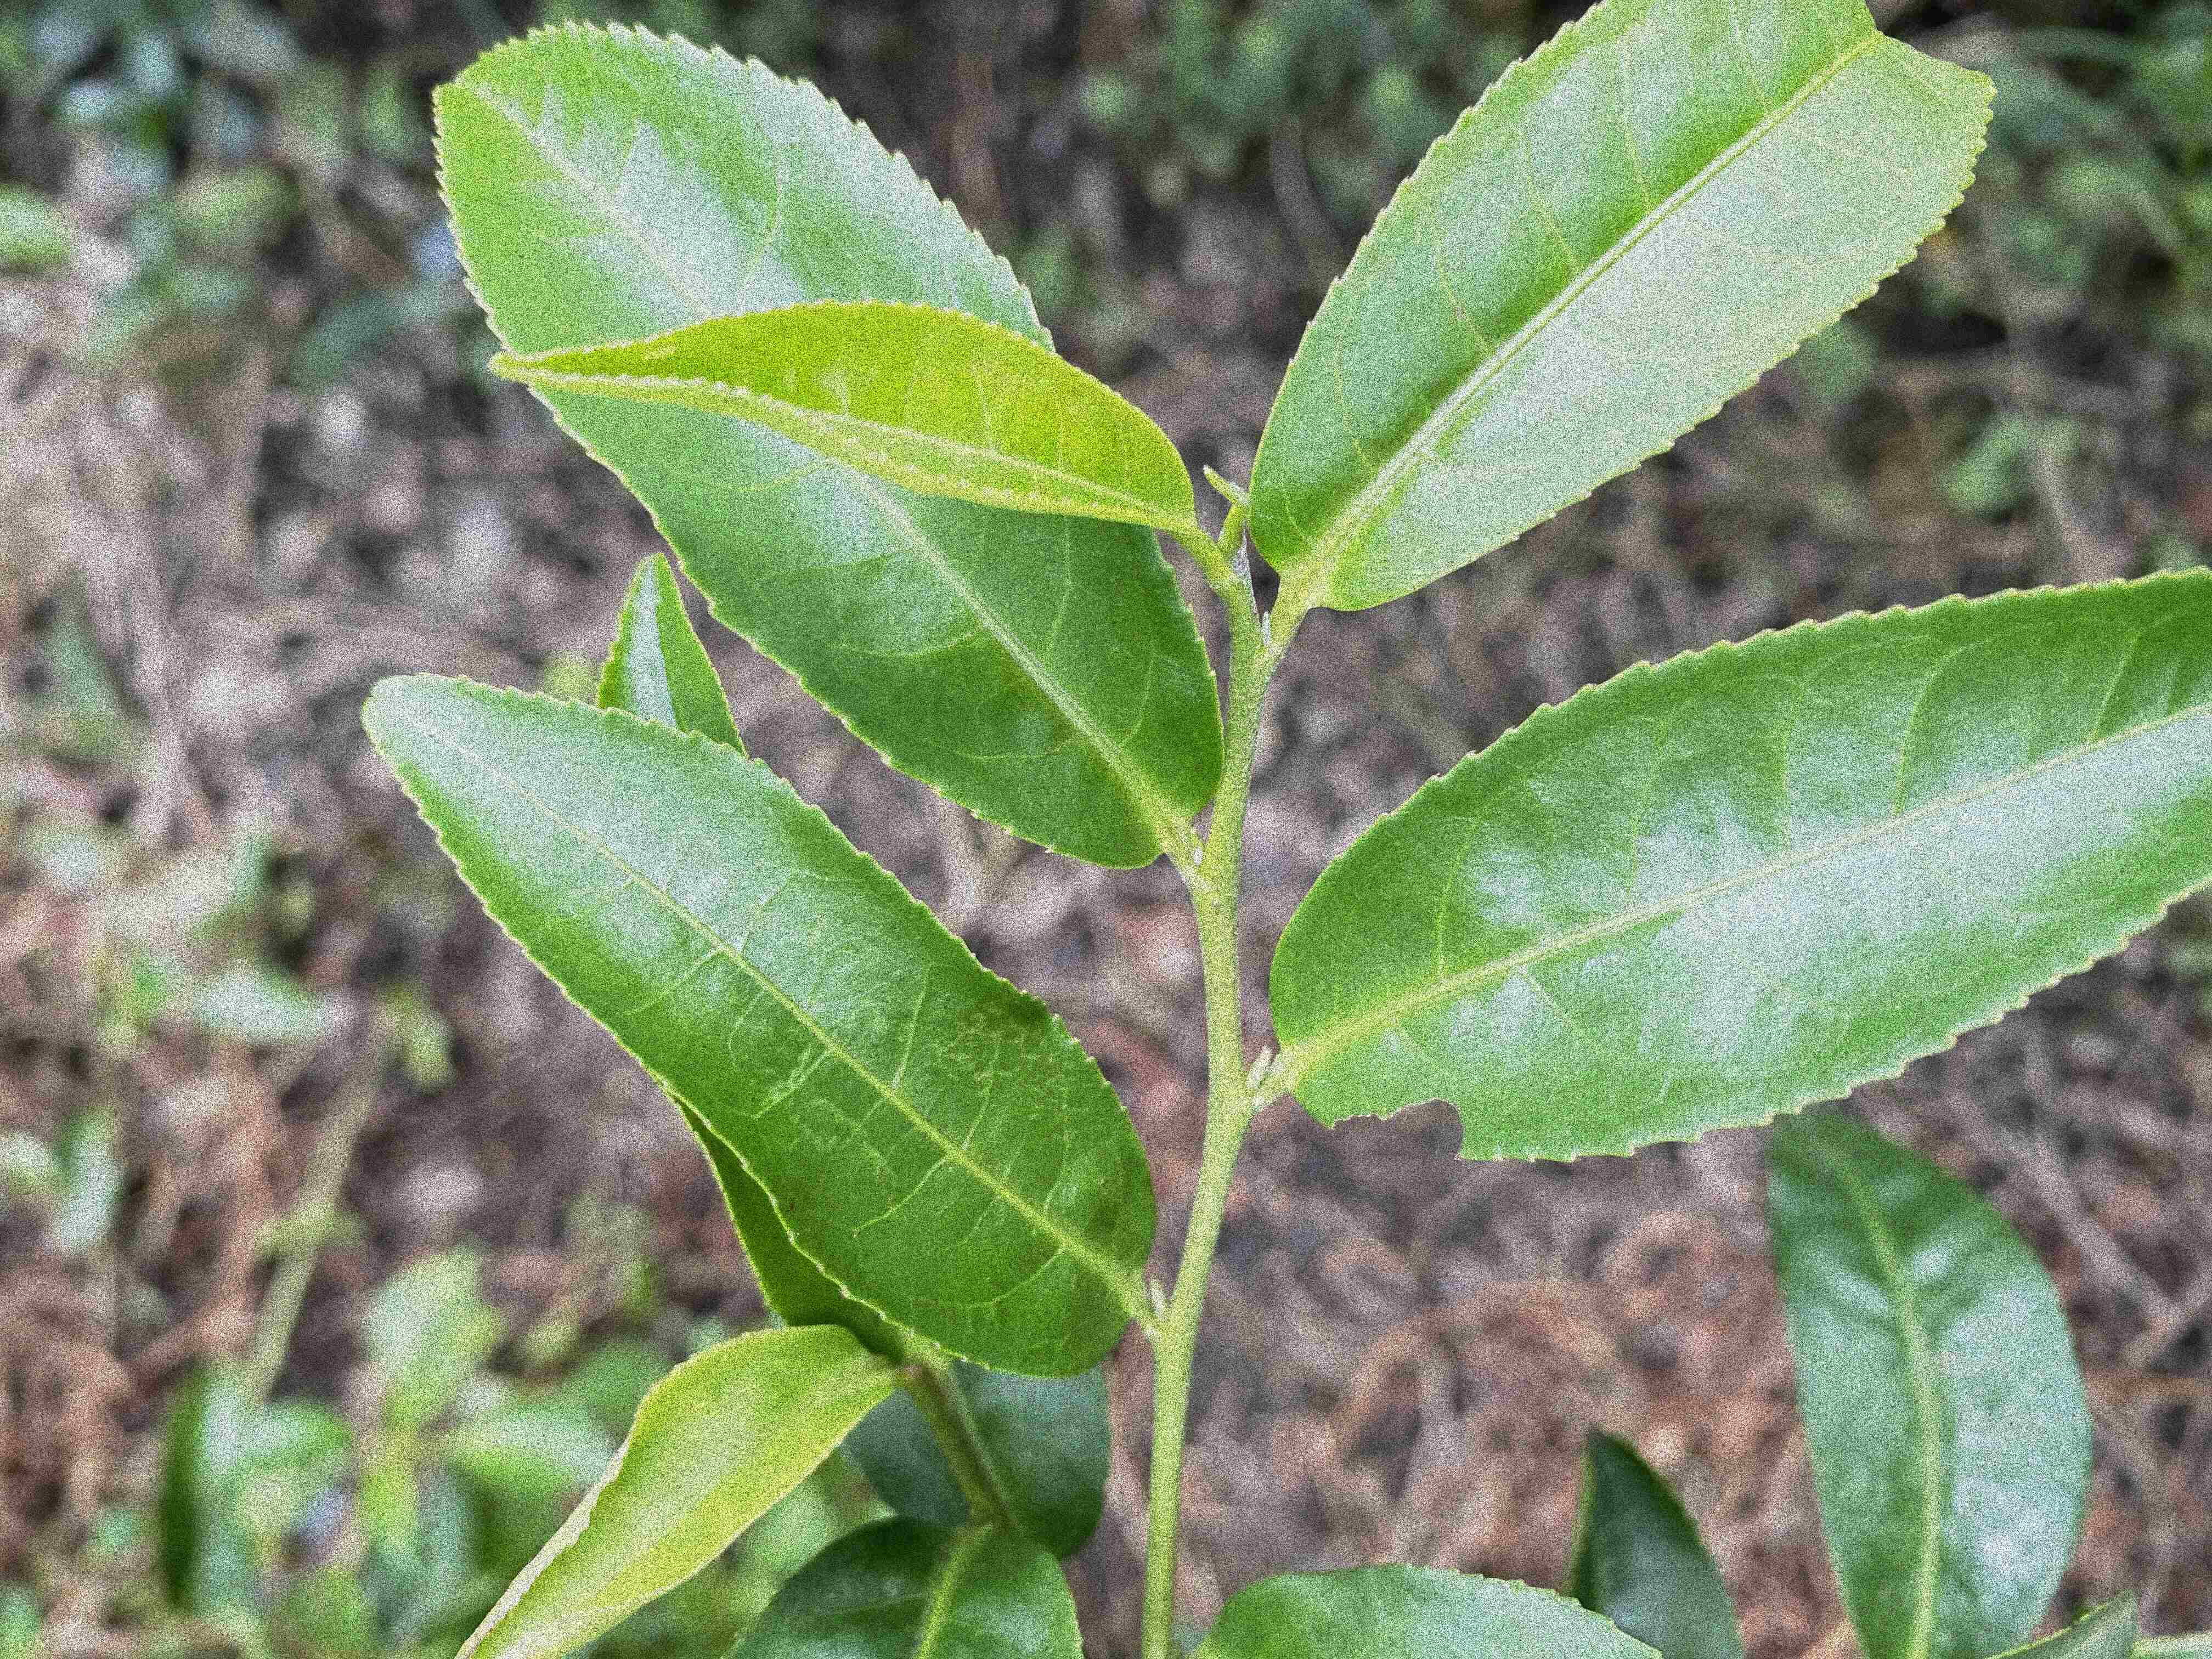chihuo_low: (1268, 568, 2207, 1168), (1244, 3, 2008, 615)
healthy: (427, 17, 1228, 871), (357, 666, 1158, 1375), (489, 293, 1198, 537), (453, 1323, 899, 1656)
